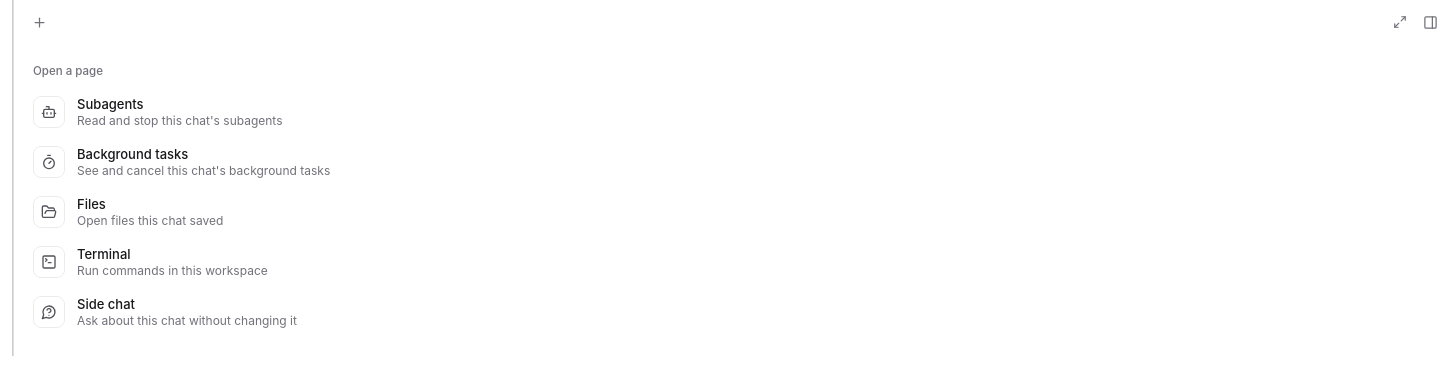
Test: offers Background tasks only while the chat has some, hiding its tab without closing it
Later steps or results of the test are not shown.
Click the button "Background tasks See and cancel this chat's background tasks". click: (49, 162)
box: [25,138,1440,186]
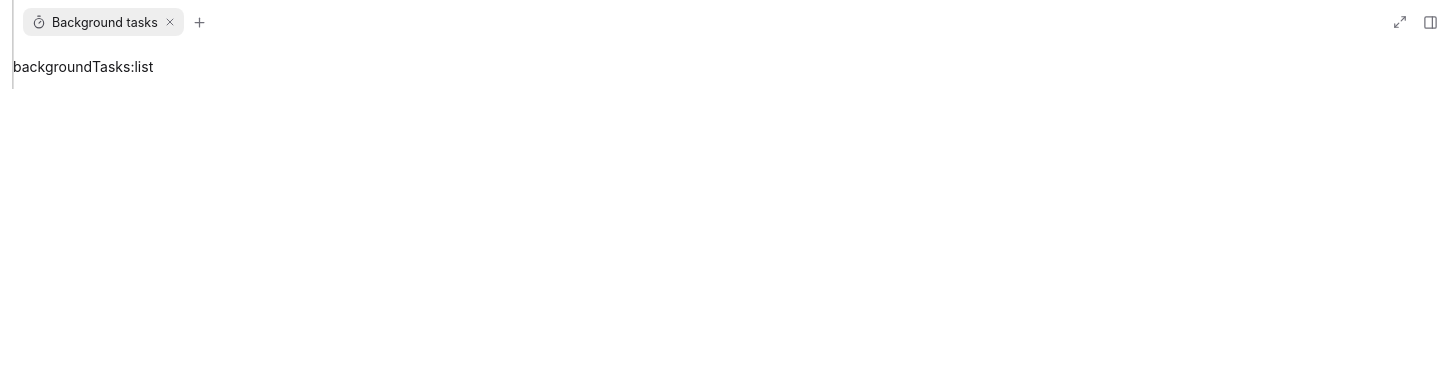
Now the text with test id "page" reads "backgroundTasks:list", box [13,58,153,75]
Click the button named "Add page". click: (200, 22)
box: [186,8,214,36]
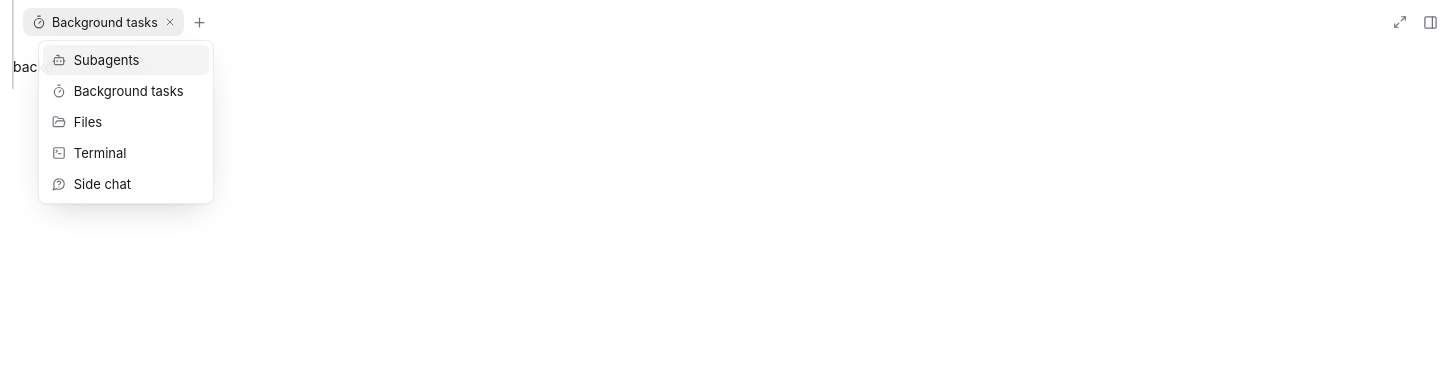
Click the menu item "Files". click: (126, 122)
box: [43,107,209,137]
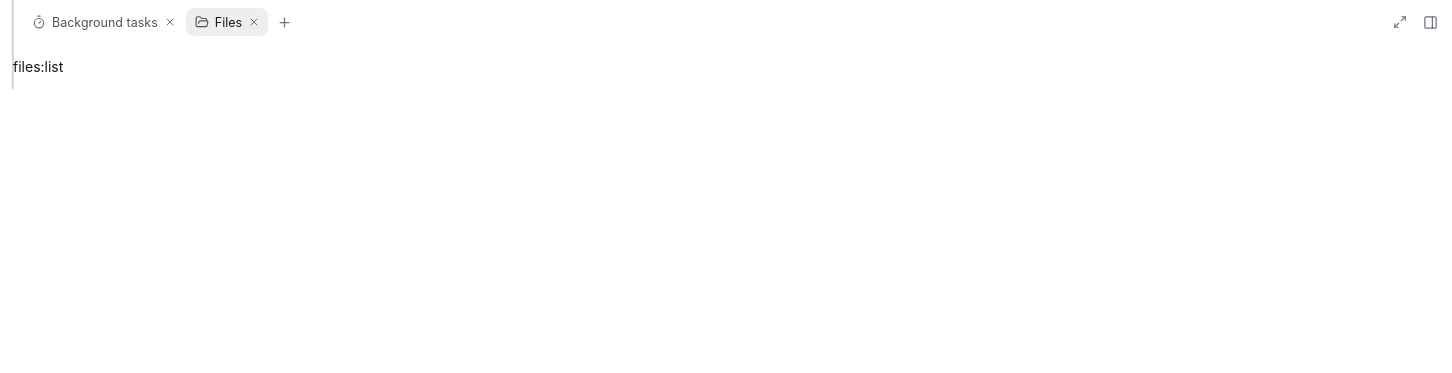
Click the tab "Background tasks". click: (91, 22)
box: [23,8,160,36]
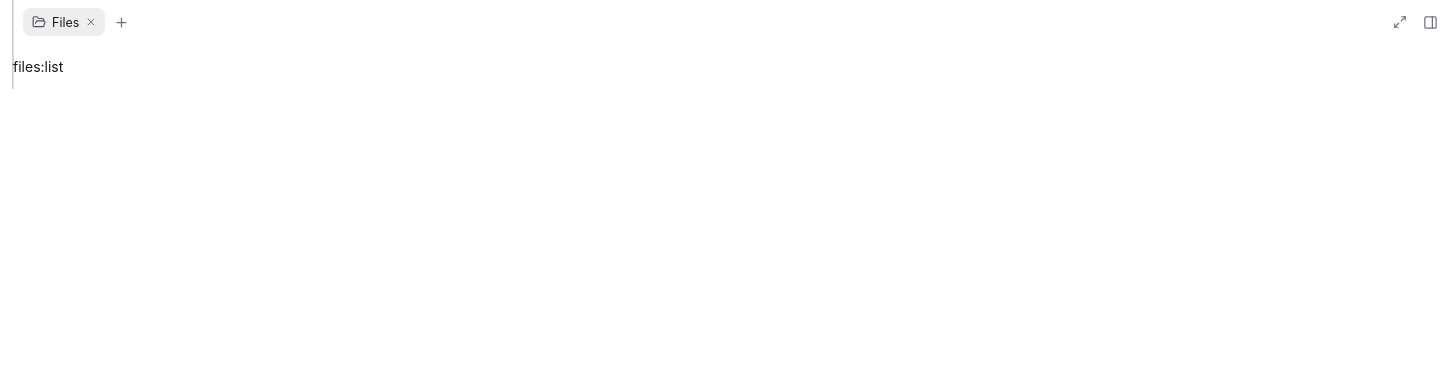
Now the text with test id "page" reads "files:list", box [13,58,63,75]
Click the button named "Add page". click: (121, 22)
box: [107,8,135,36]
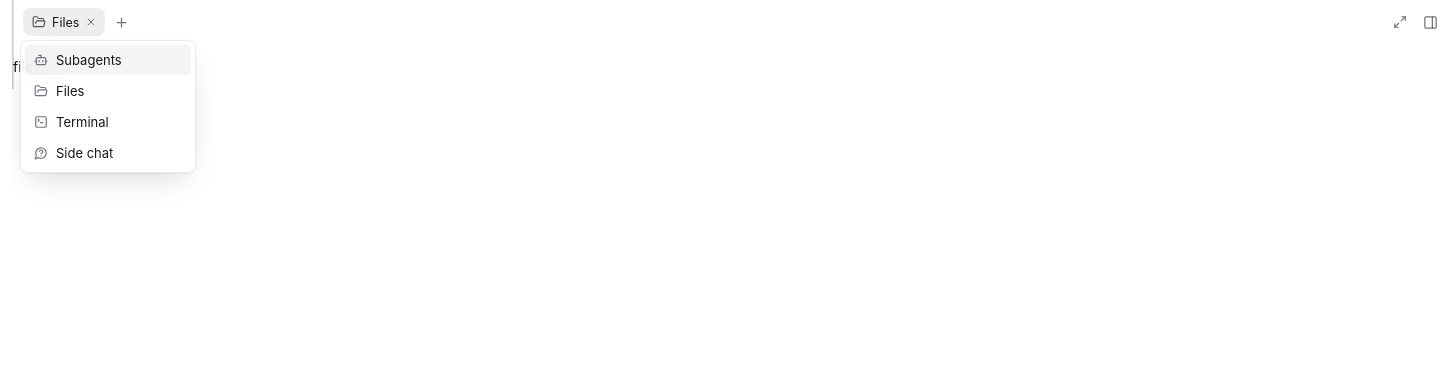
Click the button named "Add page". click: (121, 22)
box: [107,8,135,36]
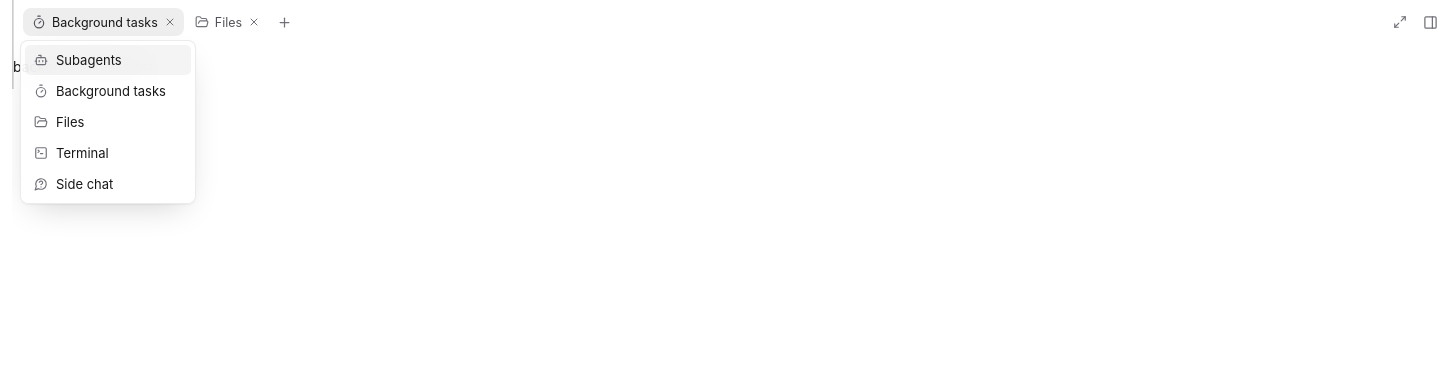
Now the number of tabs is 2, box [23,8,160,36]; [186,8,244,36]
